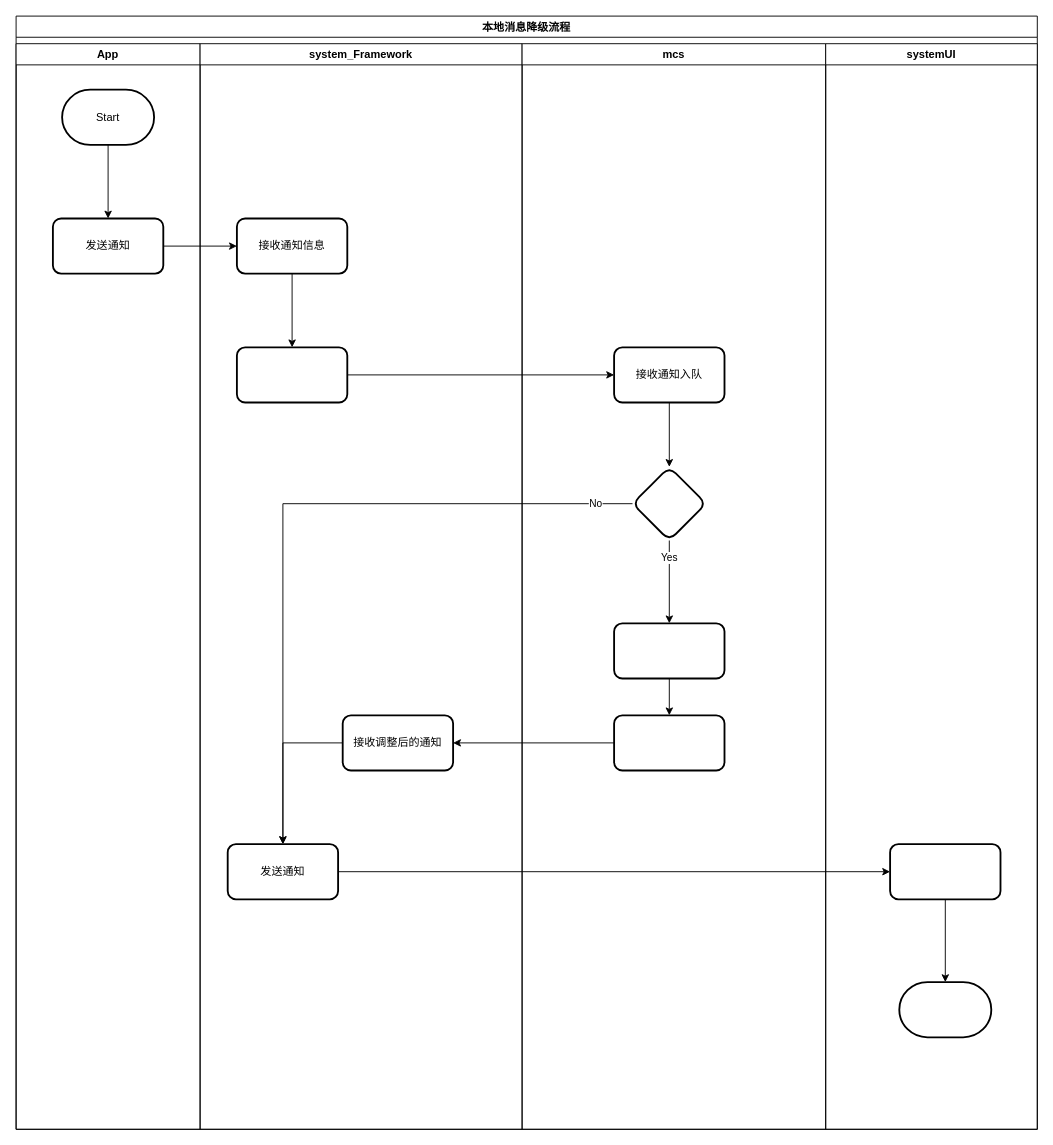
The diagram is 1053 pixels wide and 1145 high, and some of its shapes have lost their labels. The shapes that lost their labels are listed below. From the top down, each one's centre as x and y in pixels, then its label:
At (x=292, y=374): "提前回调给Mcs".
At (x=669, y=503): "滥用权益通道".
At (x=669, y=650): "降低优先级".
At (x=669, y=742): "返回给 system".
At (x=945, y=871): "展示通知".
At (x=945, y=1009): "End".
